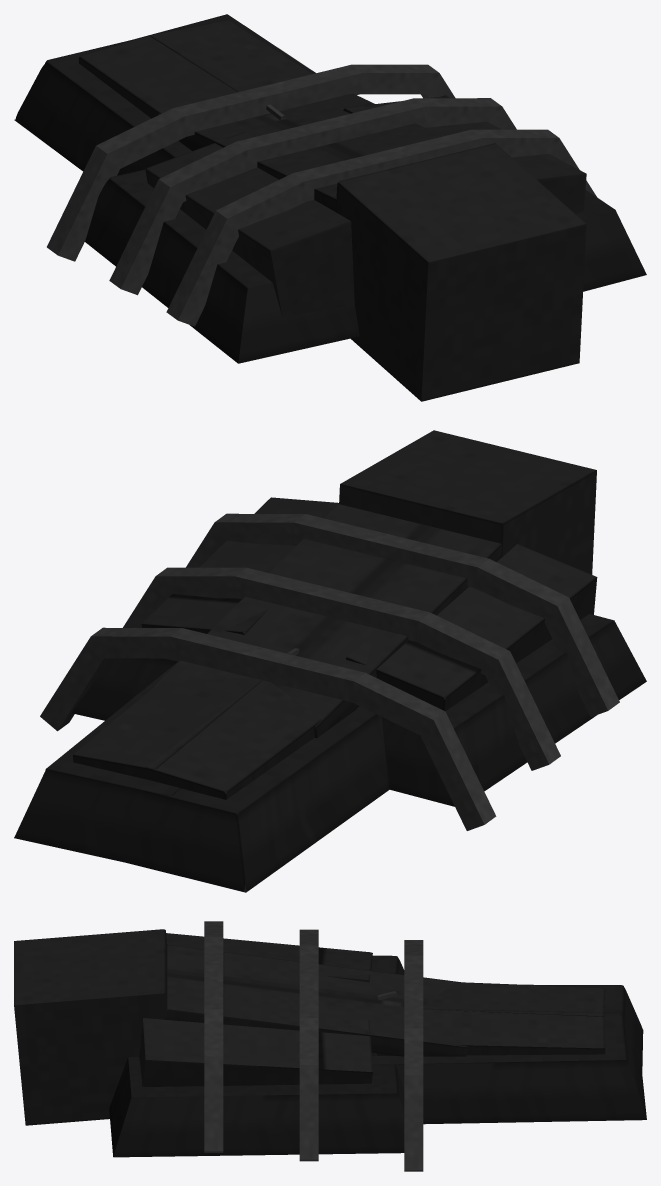
File: body_bag_black.obj
3 renders of one model, top to bottom at view 1: azimuth 30°, elevation 25°; view 2: azimuth 150°, elevation 25°; view 3: azimuth 270°, elevation 25°, orthographic. The views are drawn at different scales.
Visible parts, largest first — view 1: baseModel5, baseModel10, baseModel1, baseModel8, baseModel4, baseModel14, baseModel3, baseModel27, baseModel22, baseModel7, baseModel15, baseModel17 (+12 smaller); view 2: baseModel5, baseModel8, baseModel14, baseModel10, baseModel1, baseModel4, baseModel3, baseModel12, baseModel27, baseModel2, baseModel22, baseModel15 (+16 smaller); view 3: baseModel5, baseModel7, baseModel8, baseModel12, baseModel2, baseModel3, baseModel4, baseModel1, baseModel11, baseModel19, baseModel25, baseModel20 (+9 smaller).
Part boxes in pixels (<box>): baseModel5: <box>336,143,586,401</box>; baseModel10: <box>85,179,359,363</box>; baseModel1: <box>145,132,354,316</box>; baseModel8: <box>157,93,442,211</box>; baseModel4: <box>78,33,241,118</box>; baseModel14: <box>14,62,173,175</box>; baseModel3: <box>150,19,311,92</box>; baseModel27: <box>173,65,362,136</box>; baseModel22: <box>236,98,425,170</box>; baseModel7: <box>440,95,646,291</box>; baseModel15: <box>293,130,482,201</box>; baseModel17: <box>166,211,242,326</box>; baseModel5: <box>339,430,596,574</box>; baseModel8: <box>153,504,501,738</box>; baseModel14: <box>130,715,389,892</box>; baseModel10: <box>381,621,646,806</box>; baseModel1: <box>346,544,597,711</box>; baseModel4: <box>145,679,321,816</box>; baseModel3: <box>73,678,262,780</box>; baseModel12: <box>14,770,144,864</box>; baseModel27: <box>170,628,365,701</box>; baseModel2: <box>141,497,338,634</box>; baseModel22: <box>235,568,430,642</box>; baseModel15: <box>294,514,488,588</box>; baseModel5: <box>14,929,167,1125</box>; baseModel7: <box>109,1057,404,1157</box>; baseModel8: <box>164,944,467,1056</box>; baseModel12: <box>396,1023,646,1124</box>; baseModel2: <box>139,1018,372,1086</box>; baseModel3: <box>376,1008,605,1055</box>; baseModel4: <box>423,982,605,1016</box>; baseModel1: <box>166,933,372,982</box>; baseModel11: <box>372,1011,626,1064</box>; baseModel19: <box>204,1056,223,1152</box>; baseModel25: <box>404,1075,423,1171</box>; baseModel20: <box>299,1065,318,1161</box>.
Size of the model in its own units: 1.36 by 0.4794 by 2.08.
1 material, 1 textured.
